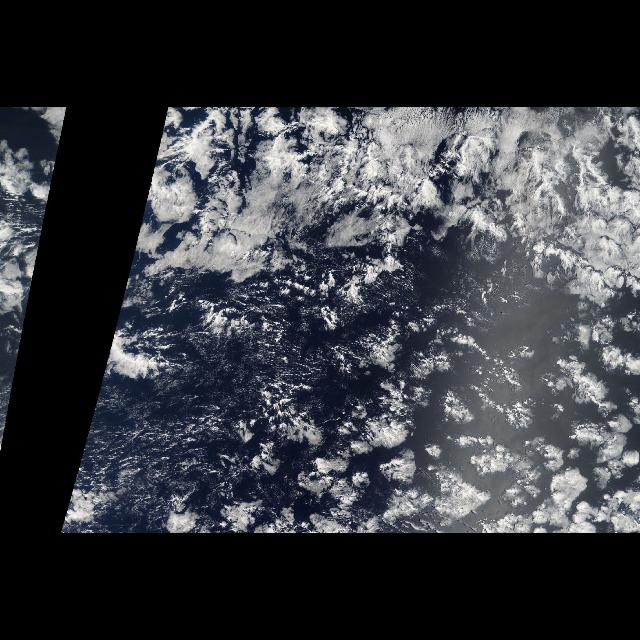Flower: (160, 312, 640, 534)
Gravel: (116, 399, 228, 489)
Sugar: (100, 384, 224, 528)
